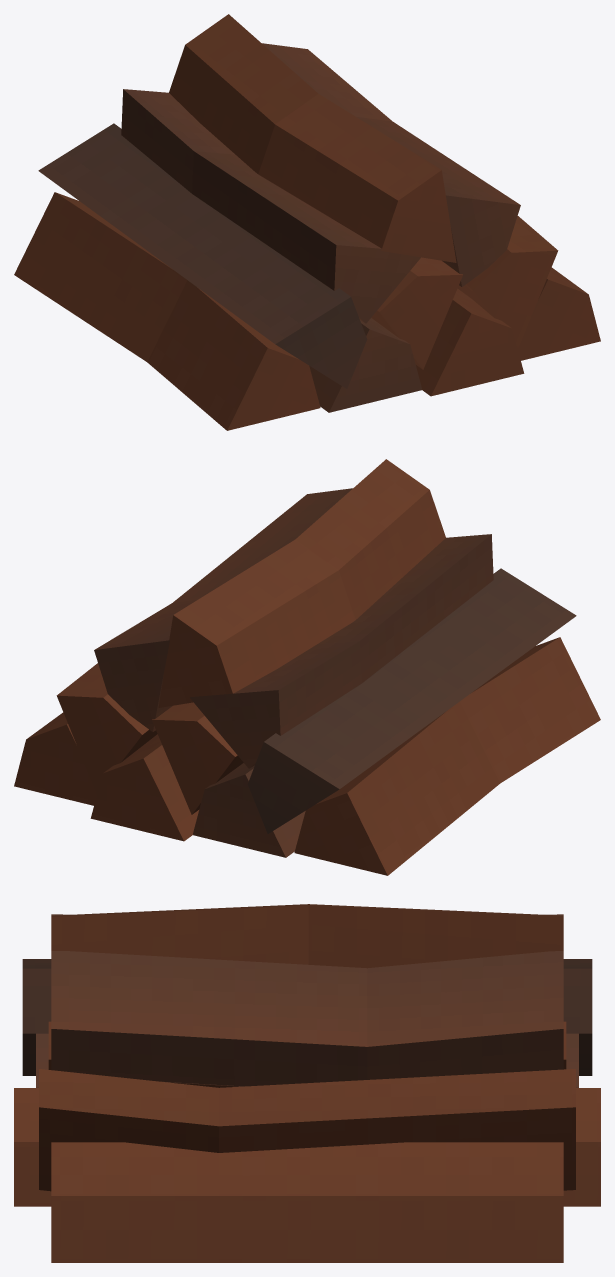
File: lenha.glb
3 views of the same model, one above another, from view 1: azimuth 30°, elevation 25°; view 2: azimuth 150°, elevation 25°; view 3: azimuth 270°, elevation 25° (orthographic). The views are drawn at different scales.
Visible parts, largest first — view 1: FirewoodPileA; view 2: FirewoodPileA; view 3: FirewoodPileA.
Part boxes in pixels (box(x1,y1,x2,y2)): FirewoodPileA: box(14, 14, 600, 430); FirewoodPileA: box(14, 459, 600, 875); FirewoodPileA: box(14, 904, 600, 1262).
Size of the model in its own units: 0.5261 by 0.285 by 0.5954.
1 material, 1 textured.
